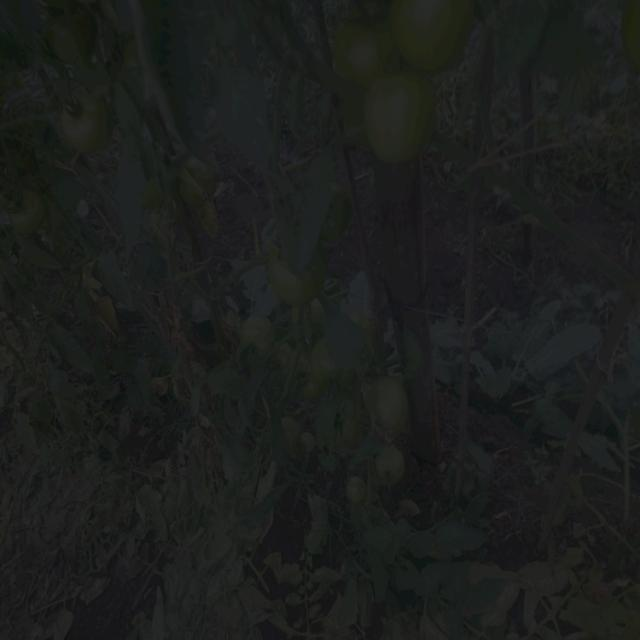tomato: (366, 71, 436, 163), (391, 1, 470, 64), (340, 20, 394, 82), (272, 260, 331, 306), (64, 97, 113, 149), (374, 378, 411, 429), (54, 4, 91, 48), (315, 339, 342, 395), (11, 194, 43, 235), (327, 189, 352, 235), (625, 1, 640, 74), (196, 164, 225, 200), (247, 316, 277, 350), (375, 444, 405, 477), (118, 46, 146, 71), (347, 477, 367, 504), (284, 418, 304, 441)
